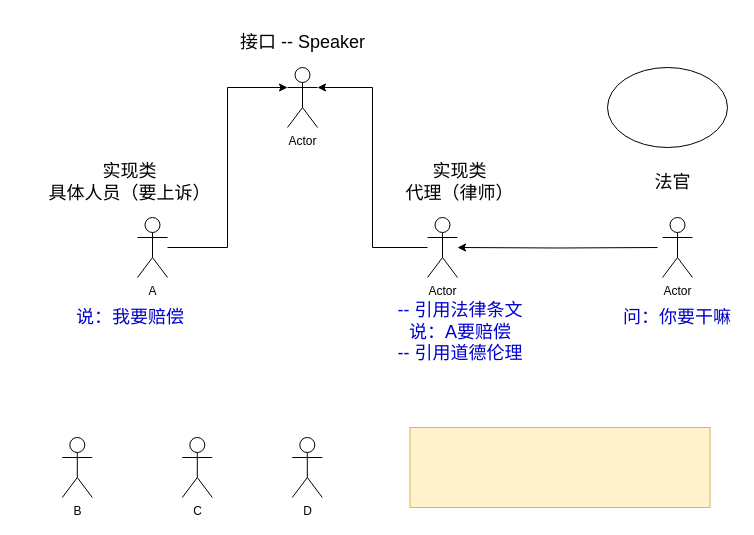
Image size: 754x535. Some labels were removed from this diagram. Each missing label, with the centre of its shape:
"1. 当一对一代理时，就是静态代理 2. 当一对多代理时，就是动态代理" goes at pixel 559 467.
"法官通过律师了解A" goes at pixel 667 107.
